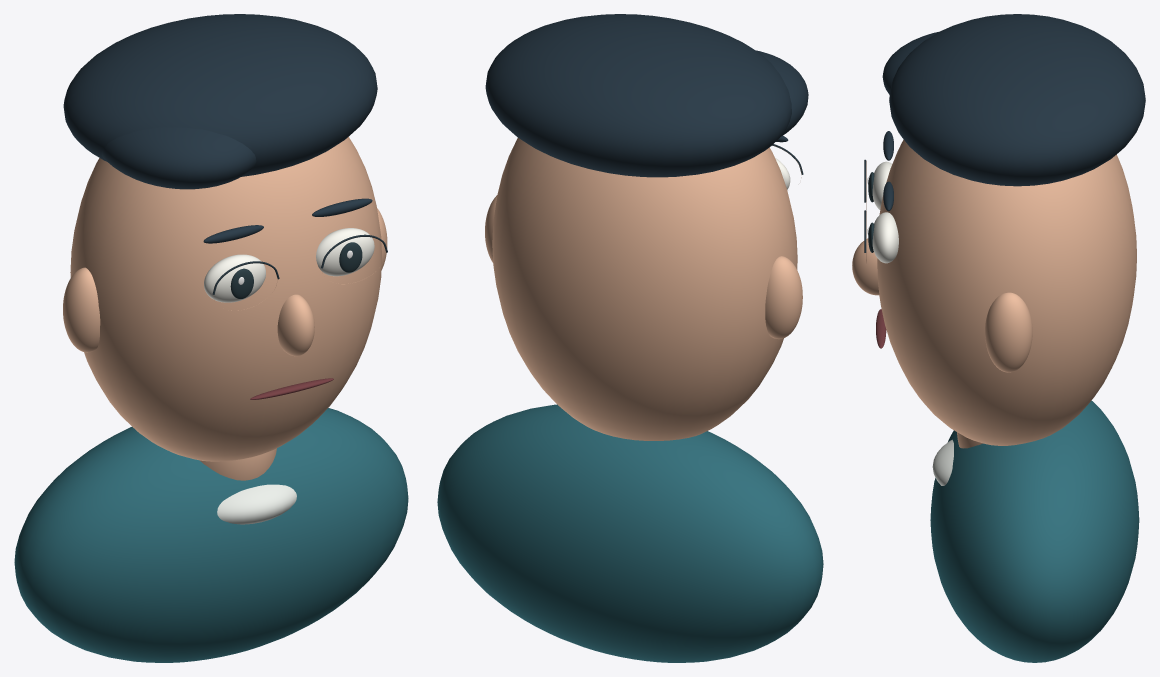
File: original-v1.glb
The picture shows the model from 3 angles, left to right: view 1: azimuth 30°, elevation 25°; view 2: azimuth 150°, elevation 25°; view 3: azimuth 270°, elevation 25°; orthographic projection. The views are drawn at different scales.
Visible parts, largest first — view 1: torso, head, hair, hair_part, ear_right, collar, nose, eye_right_white, eye_left_white, neck, brow_right, brow_left; view 2: torso, head, hair, ear_right, hair_part; view 3: head, torso, hair, ear_left, eye_left_white, nose, hair_part, collar, eye_right_white.
Boxes of the visible parts, x1=… form: torso: x1=14, y1=408, x2=408, y2=662; head: x1=70, y1=137, x2=381, y2=461; hair: x1=63, y1=14, x2=377, y2=176; hair_part: x1=101, y1=127, x2=256, y2=189; ear_right: x1=63, y1=267, x2=100, y2=352; collar: x1=217, y1=484, x2=296, y2=524; nose: x1=277, y1=294, x2=314, y2=356; eye_right_white: x1=204, y1=254, x2=265, y2=302; eye_left_white: x1=316, y1=228, x2=374, y2=276; neck: x1=200, y1=448, x2=276, y2=480; brow_right: x1=203, y1=225, x2=263, y2=243; brow_left: x1=312, y1=198, x2=372, y2=216; torso: x1=437, y1=404, x2=823, y2=662; head: x1=492, y1=138, x2=797, y2=440; hair: x1=485, y1=14, x2=791, y2=177; ear_right: x1=765, y1=256, x2=802, y2=338; hair_part: x1=756, y1=50, x2=808, y2=136; head: x1=877, y1=139, x2=1136, y2=445; torso: x1=930, y1=400, x2=1139, y2=662; hair: x1=889, y1=14, x2=1145, y2=186; ear_left: x1=985, y1=292, x2=1032, y2=372; eye_left_white: x1=872, y1=212, x2=898, y2=263; nose: x1=852, y1=238, x2=879, y2=295; hair_part: x1=882, y1=31, x2=939, y2=94; collar: x1=932, y1=439, x2=953, y2=485; eye_right_white: x1=872, y1=161, x2=892, y2=209.
Bounding box in the file's own units: 1.92 × 2.98 × 1.35.
